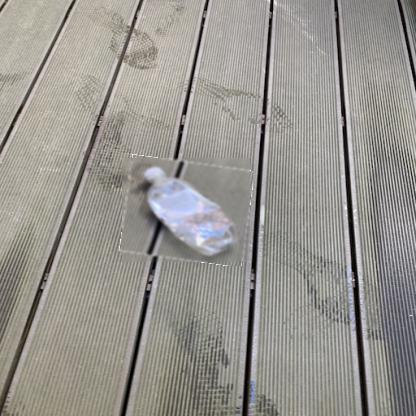plastic-bottles: (123, 159, 252, 264)
